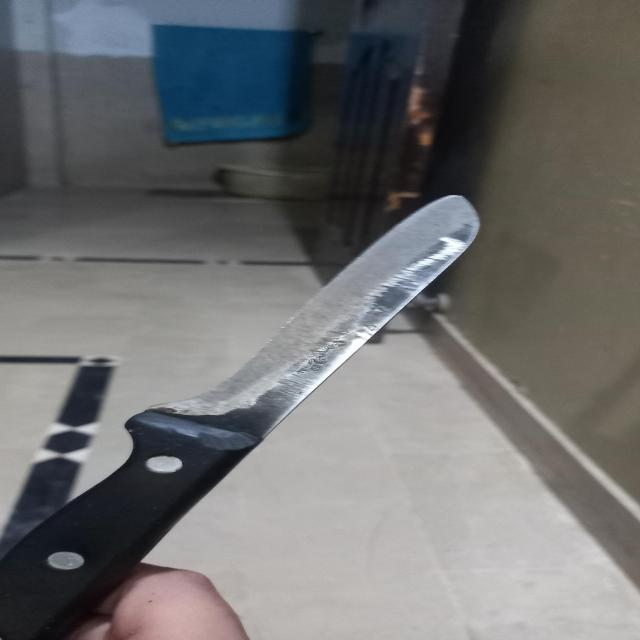Knife: (0, 193, 484, 640)
Person: (0, 537, 250, 640)
